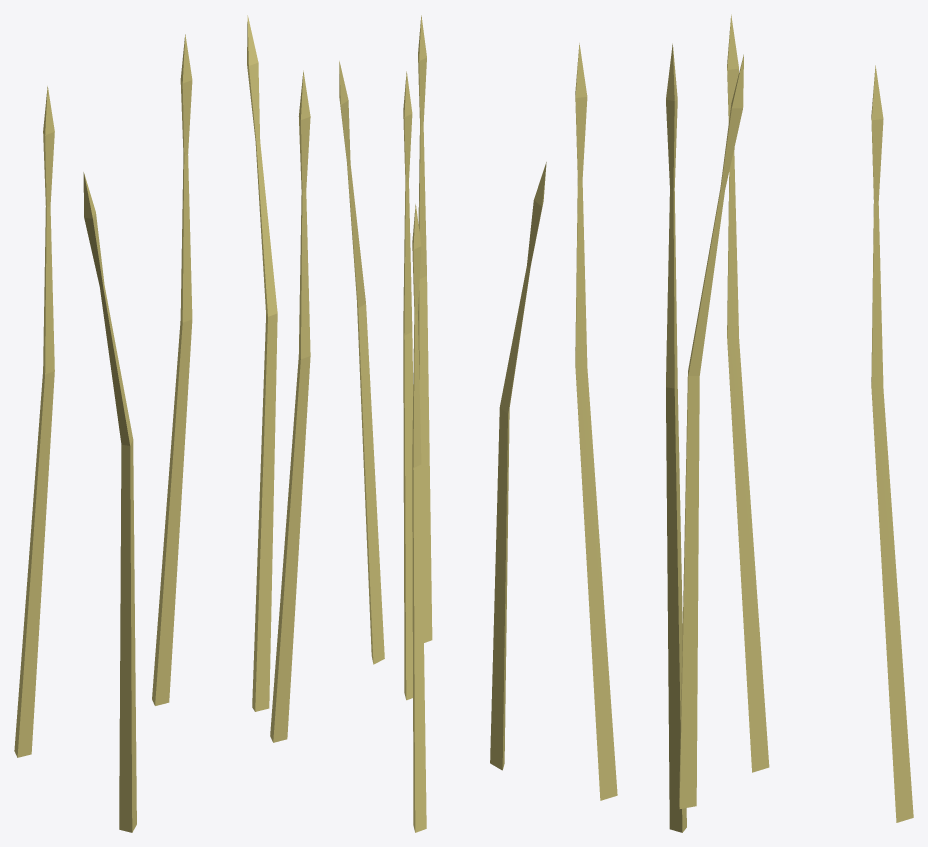
Rendered from reeds.glb.
The picture shows the model from 3 angles, left to right: view 1: azimuth 30°, elevation 25°; view 2: azimuth 150°, elevation 25°; view 3: azimuth 270°, elevation 25°; orthographic projection. The views are drawn at different scales.
Parts seen in each view (by area): view 1: Reeds; view 2: Reeds; view 3: Reeds.
Part boxes in pixels (x1=…): Reeds: x1=14, y1=15, x2=310, y2=832; Reeds: x1=339, y1=15, x2=546, y2=832; Reeds: x1=575, y1=14, x2=913, y2=832.
Size of the model in its own units: 0.3819 by 1.38 by 0.4925.
